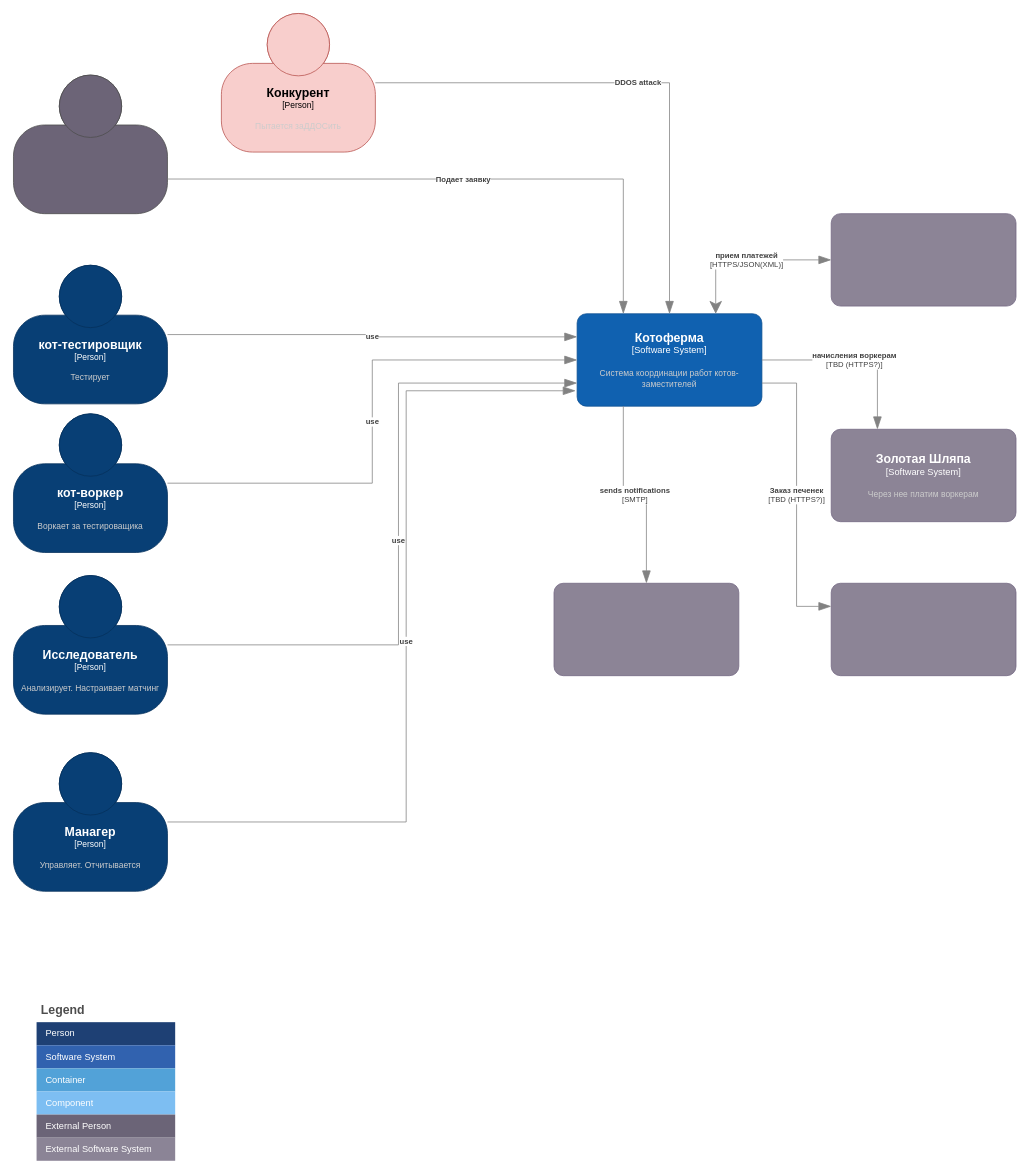
Image size: 1029x1174. Some labels were removed from this diagram. Each missing label, with the centre of its shape:
Fur-Tune-Req [Software System] Система приема заказов на fur-tune печенье: (923,629)
MTA [Software System] Mail Transfer Agent - внешняя система доставки емейл: (646,629)
Кандидат [Person] Кот, который еще не прошел тесты: (90,144)
Платежная систем [Software System] Через нее принимаем платежи: (923,259)
